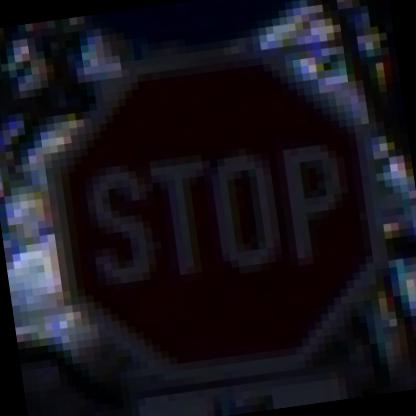stop: (38, 38, 398, 392)
